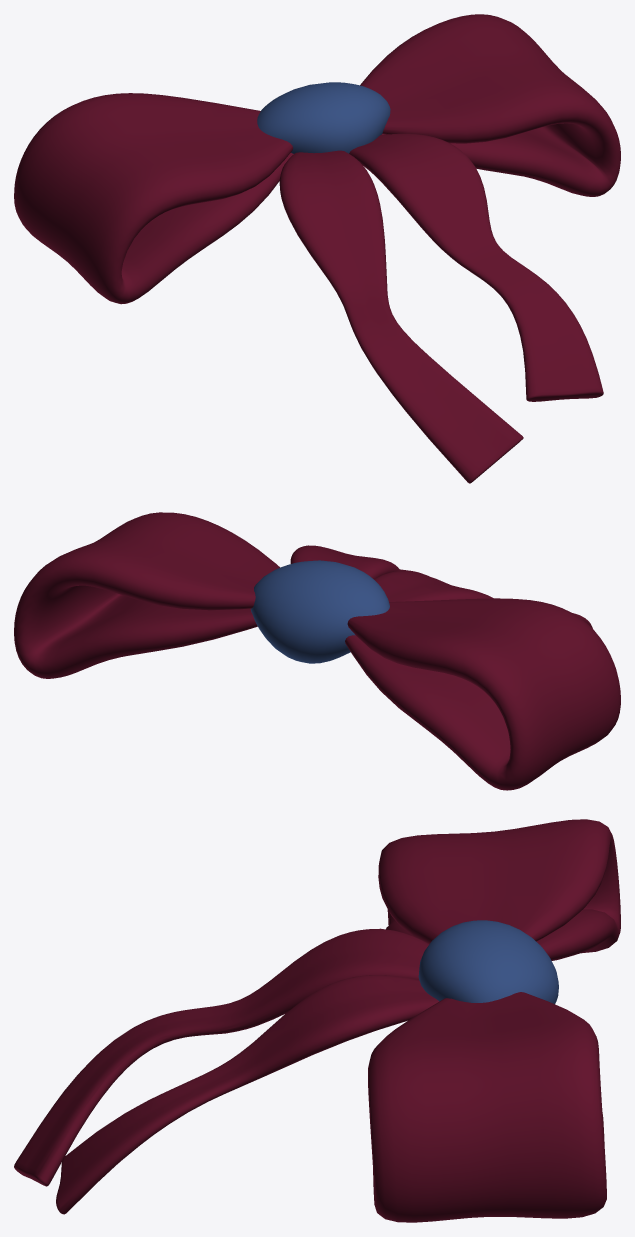
Rendered from mono_cabello.glb.
3 views of the same model, one above another, from view 1: azimuth 30°, elevation 25°; view 2: azimuth 150°, elevation 25°; view 3: azimuth 270°, elevation 25° (orthographic). The views are drawn at different scales.
Visible parts, largest first — view 1: Hair_ribbon_left1, Hair_ribbon_right1, Hair_ribbon_left2, Hair_ribbon_right2, Hair_ribbon; view 2: Hair_ribbon_left1, Hair_ribbon_right1, Hair_ribbon, Hair_ribbon_left2, Hair_ribbon_right2; view 3: Hair_ribbon_right1, Hair_ribbon_left1, Hair_ribbon_right2, Hair_ribbon_left2, Hair_ribbon.
Part boxes in pixels (bbox=[...]): Hair_ribbon_left1: bbox=[14, 93, 293, 304]; Hair_ribbon_right1: bbox=[360, 14, 620, 196]; Hair_ribbon_left2: bbox=[279, 150, 523, 483]; Hair_ribbon_right2: bbox=[349, 133, 603, 401]; Hair_ribbon: bbox=[257, 82, 390, 153]; Hair_ribbon_left1: bbox=[345, 598, 620, 790]; Hair_ribbon_right1: bbox=[14, 512, 279, 678]; Hair_ribbon: bbox=[250, 560, 389, 663]; Hair_ribbon_left2: bbox=[374, 571, 592, 628]; Hair_ribbon_right2: bbox=[290, 545, 427, 579]; Hair_ribbon_right1: bbox=[368, 992, 606, 1222]; Hair_ribbon_left1: bbox=[378, 819, 620, 960]; Hair_ribbon_right2: bbox=[56, 975, 438, 1214]; Hair_ribbon_left2: bbox=[14, 928, 428, 1186]; Hair_ribbon: bbox=[418, 920, 558, 1004].
Size of the model in its own units: 0.2869 by 0.1251 by 0.2514.
